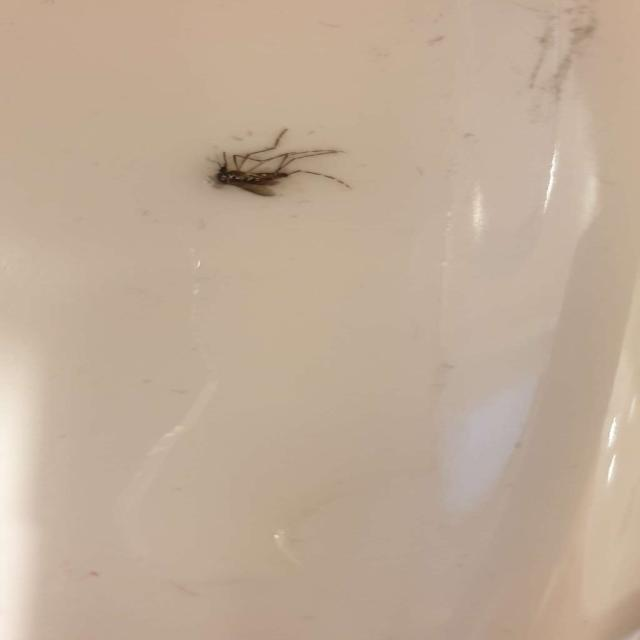albopictus: (199, 124, 353, 196)
